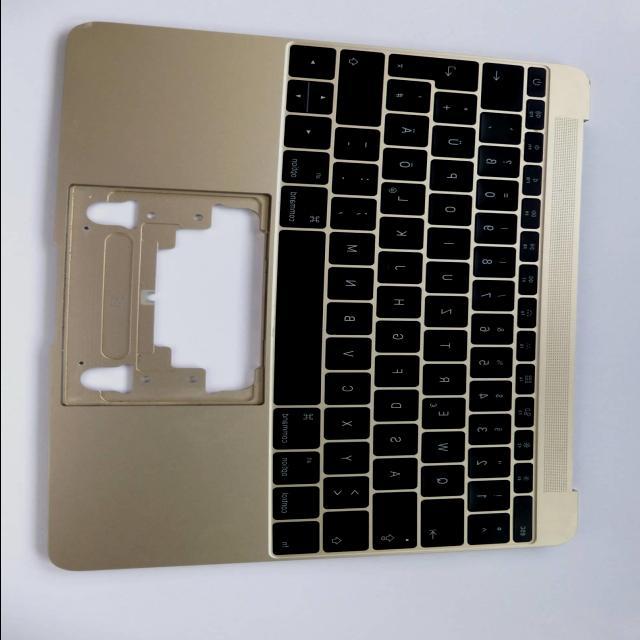0: (478, 180, 522, 213)
1: (470, 482, 515, 514)
2: (470, 448, 514, 480)
3: (470, 415, 515, 447)
4: (471, 382, 516, 414)
5: (472, 348, 517, 380)
6: (472, 315, 516, 347)
7: (474, 281, 518, 313)
8: (475, 248, 519, 280)
9: (476, 214, 520, 247)
a: (375, 460, 421, 492)
accent: (482, 115, 526, 147)
ae: (386, 116, 432, 150)
alt-left: (274, 452, 324, 486)
altgr-right: (283, 151, 333, 187)
b: (328, 304, 376, 338)
c: (326, 374, 374, 408)
caret: (470, 515, 514, 547)
comma: (333, 199, 381, 233)
d: (375, 391, 423, 424)
del: (483, 65, 527, 113)
e: (424, 399, 470, 431)
enter: (389, 56, 483, 94)
f: (377, 357, 423, 389)
g: (377, 323, 423, 355)
h: (379, 288, 425, 321)
hash: (388, 81, 434, 115)
i: (429, 230, 475, 262)
j: (379, 254, 427, 286)
k: (381, 218, 427, 252)
keyboard: (264, 36, 551, 562)
l: (383, 184, 429, 218)
less: (325, 478, 373, 512)
m: (330, 234, 378, 268)
minus: (337, 130, 383, 164)
n: (330, 269, 378, 303)
o: (430, 195, 476, 228)
oe: (384, 150, 430, 184)
p: (432, 162, 477, 194)
plus: (436, 94, 481, 127)
point: (335, 165, 381, 199)
q: (422, 466, 468, 499)
r: (424, 365, 470, 398)
s: (374, 425, 422, 458)
shift-left: (323, 512, 373, 555)
shift-lock: (373, 493, 421, 551)
shift-right: (338, 52, 388, 129)
space: (276, 232, 326, 408)
ss: (479, 147, 524, 180)
strg-left: (273, 487, 323, 521)
t: (425, 332, 471, 364)
tab: (422, 500, 468, 550)
u: (427, 264, 473, 296)
ue: (433, 128, 478, 161)
v: (327, 339, 375, 373)
w: (423, 433, 469, 465)
x: (326, 408, 374, 442)
y: (325, 443, 373, 476)
z: (426, 298, 472, 330)
